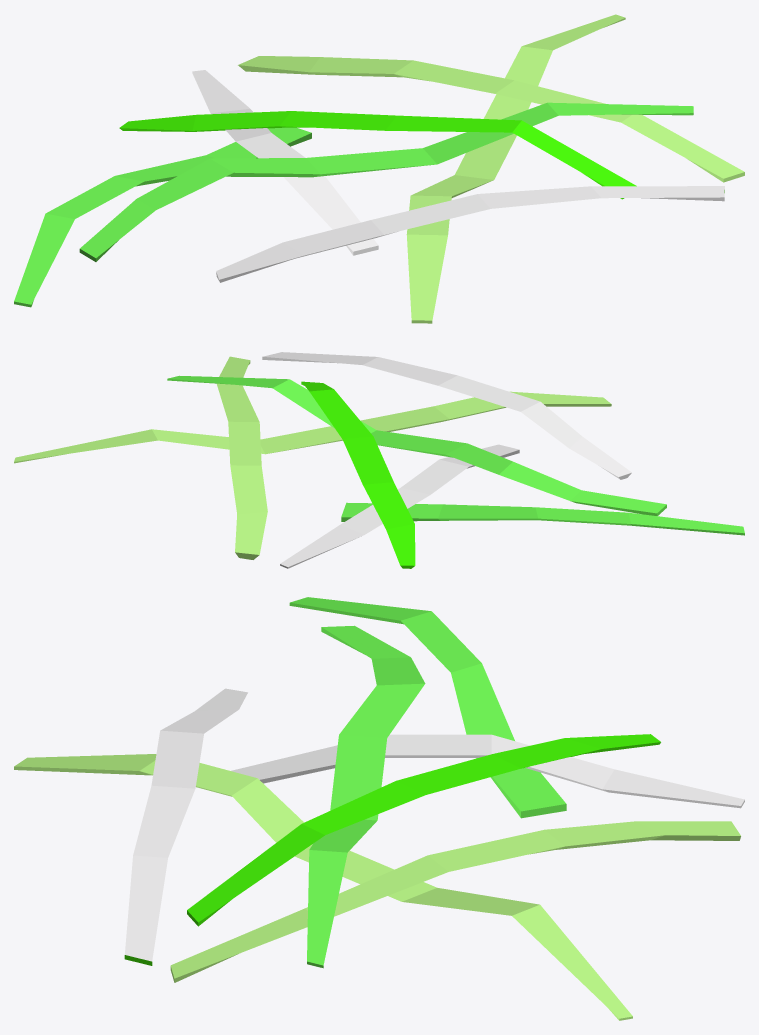
Rendered from cabbage03.gltf.
The picture shows the model from 3 angles, top to bottom: view 1: azimuth 30°, elevation 25°; view 2: azimuth 150°, elevation 25°; view 3: azimuth 270°, elevation 25°; orthographic projection. The views are drawn at different scales.
Parts seen in each view (by area): view 1: Cube.001; view 2: Cube.001; view 3: Cube.001.
Boxes of the visible parts, left/top/right/bottom form: Cube.001: left=14, top=14, right=744, bottom=323; Cube.001: left=14, top=352, right=744, bottom=568; Cube.001: left=14, top=597, right=744, bottom=1020.
Bounding box in the file's own units: 0.1553 × 0.0111 × 0.1119.
1 material, 1 textured.
